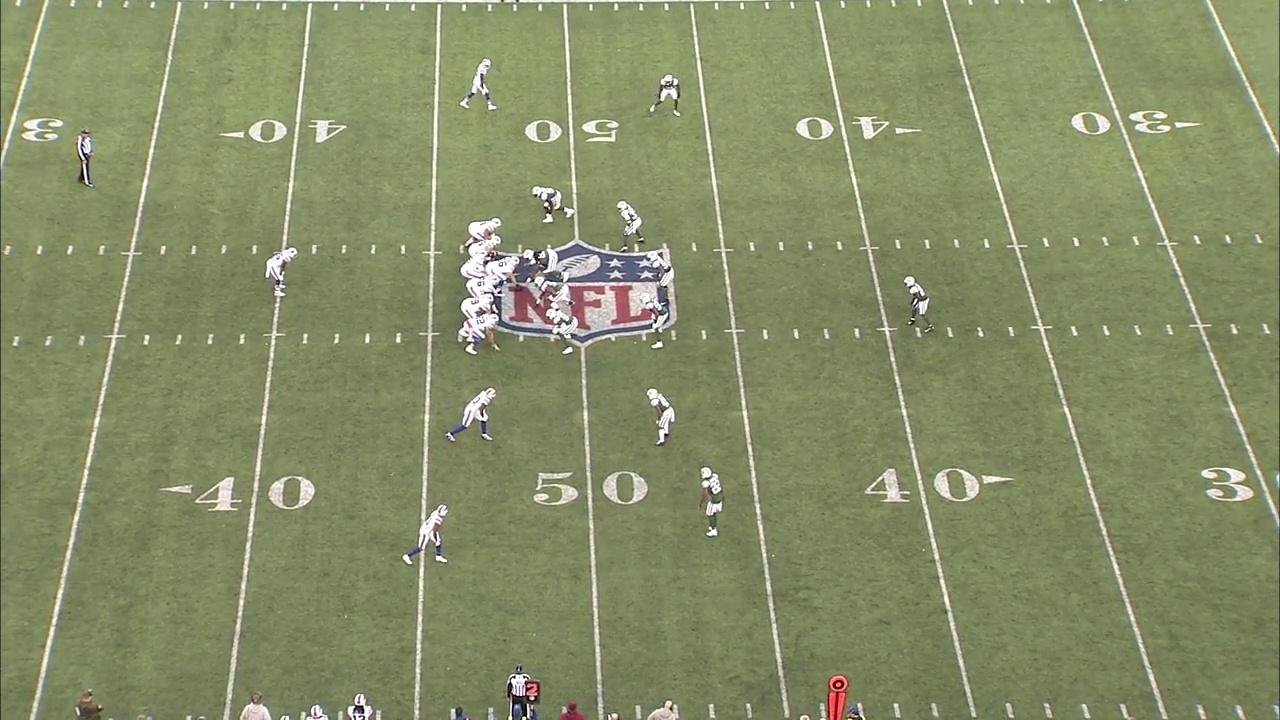player: (442, 380, 502, 449), (400, 496, 452, 573), (641, 381, 678, 452), (459, 51, 496, 118), (902, 271, 939, 337), (263, 244, 306, 300), (698, 465, 728, 542), (642, 250, 678, 306), (529, 181, 577, 222), (637, 293, 670, 350), (614, 199, 646, 256), (521, 245, 574, 279), (462, 312, 501, 358), (531, 275, 577, 313), (544, 308, 578, 357), (647, 74, 682, 119), (463, 216, 504, 244), (458, 246, 489, 283), (490, 255, 523, 287), (459, 294, 495, 320), (459, 275, 500, 297), (465, 237, 504, 255)
ref: (73, 127, 102, 200)
